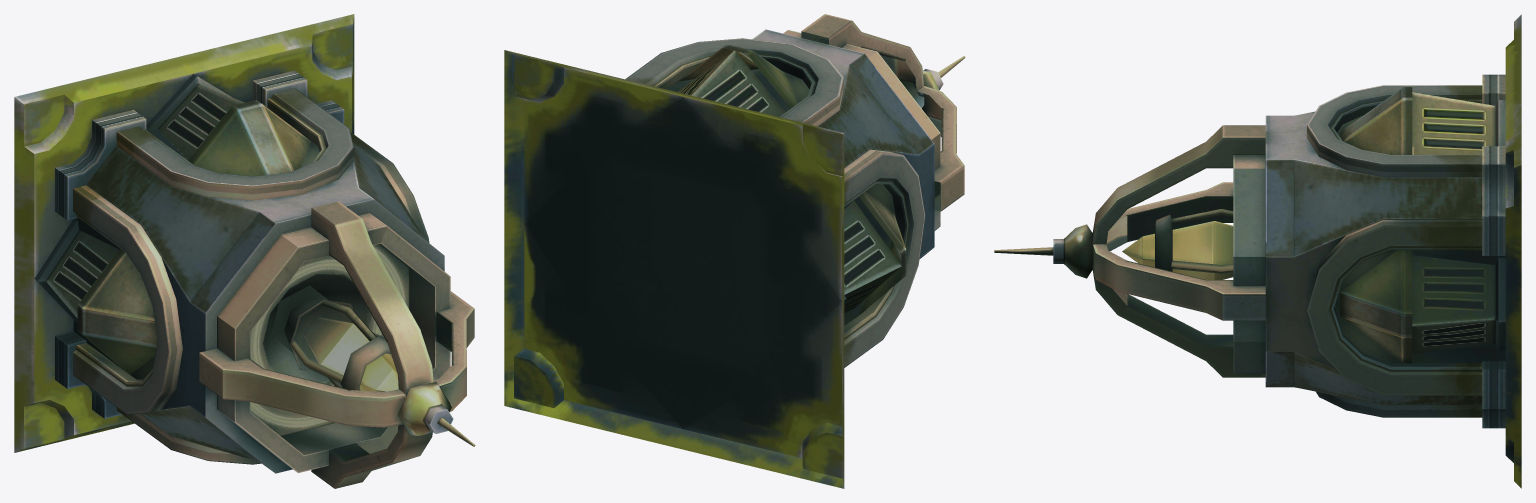
File: trap_038_dsbell.glb
The picture shows the model from 3 angles, left to right: view 1: azimuth 30°, elevation 25°; view 2: azimuth 150°, elevation 25°; view 3: azimuth 270°, elevation 25°; orthographic projection. The views are drawn at different scales.
Visible parts, largest first — view 1: S_zhong; view 2: S_zhong; view 3: S_zhong.
Boxes of the visible parts, x1,y1,x2,y2 form: S_zhong: (14,14,475,488); S_zhong: (504,14,965,488); S_zhong: (994,14,1521,488).
Bounding box in the file's own units: 1 × 1 × 1.48.
1 material, 1 textured.
